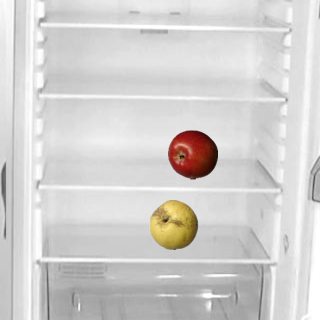Apple Braeburn: (167, 129, 217, 179)
Apple Golden 1: (148, 199, 198, 249)
